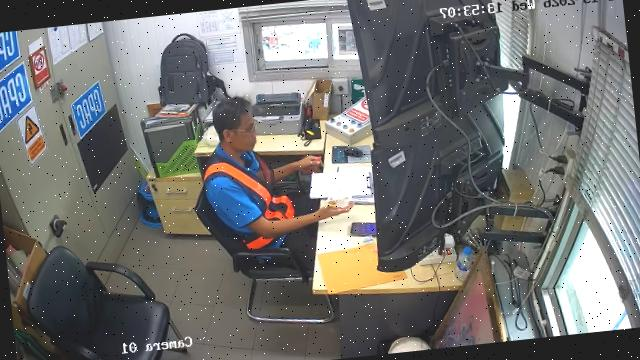Head: (213, 97, 257, 151)
People: (205, 97, 353, 269)
Phone: (349, 222, 376, 236)
